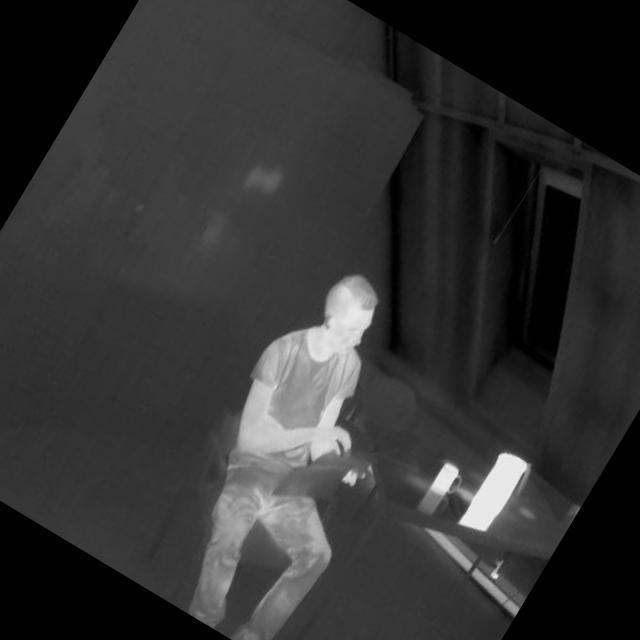person: (127, 250, 470, 640)
